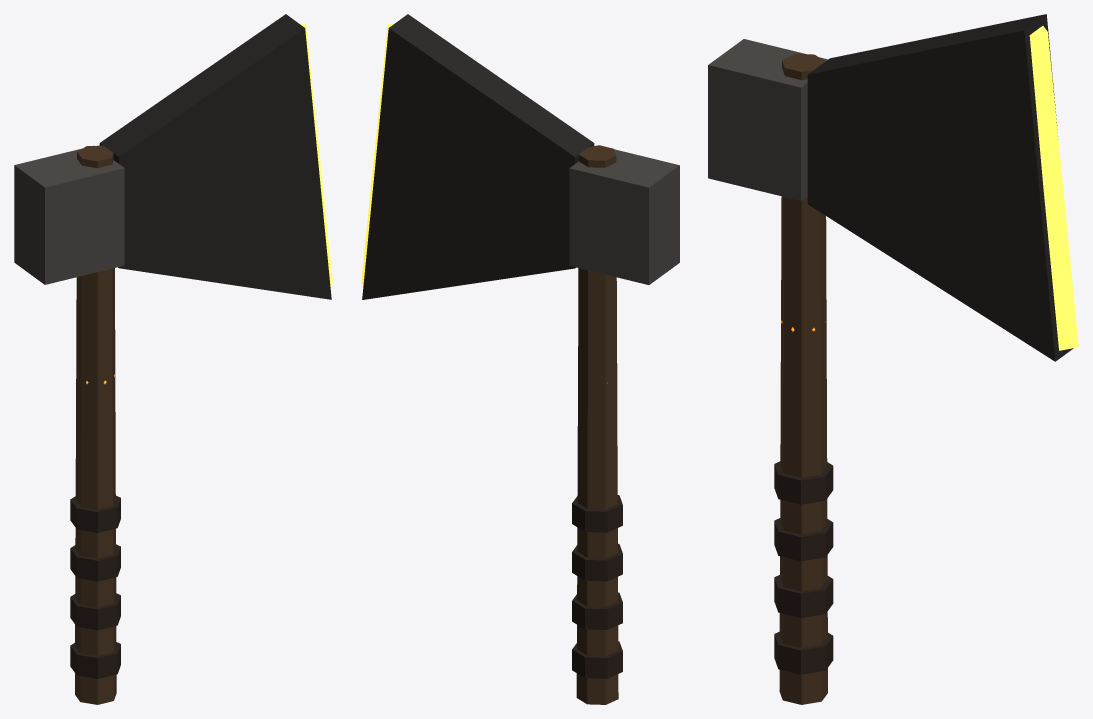
The model's file is charburner_axe.glb.
The picture shows the model from 3 angles, left to right: view 1: azimuth 30°, elevation 25°; view 2: azimuth 150°, elevation 25°; view 3: azimuth 330°, elevation 25°; orthographic projection. The views are drawn at different scales.
Parts seen in each view (by area): view 1: charburner_axe; view 2: charburner_axe; view 3: charburner_axe.
Boxes of the visible parts, x1,y1,x2,y2 form: charburner_axe: (14, 14, 332, 704); charburner_axe: (361, 14, 679, 704); charburner_axe: (708, 14, 1078, 704).
Size of the model in its own units: 0.4559 by 0.9 by 0.08.
